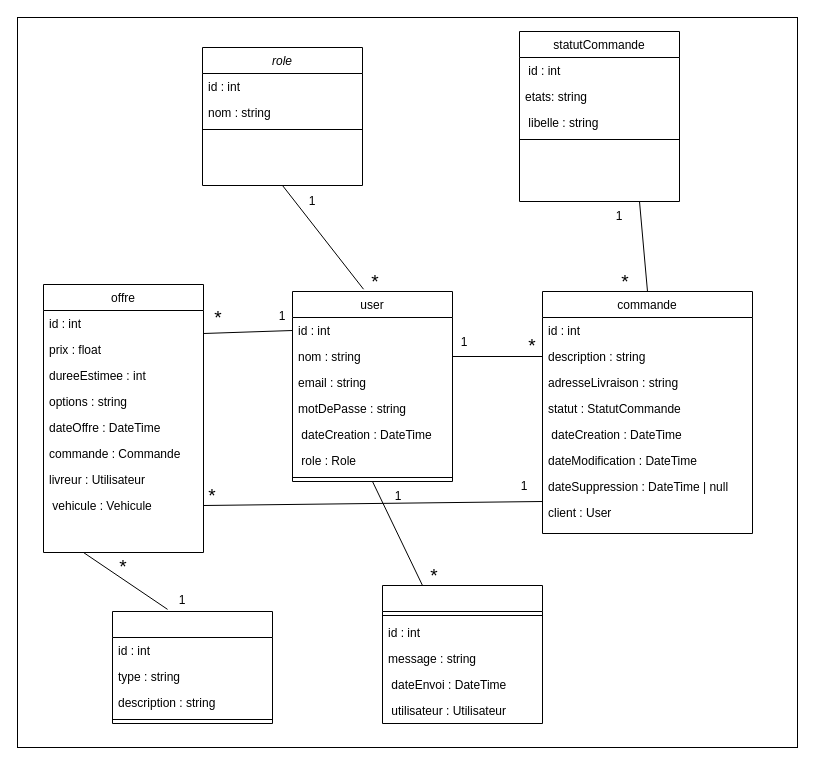
This 815x765 diagram has some shape labels left out. Here are the shapes that lost their labels. From the top down, the box of each, then its label:
(112, 610, 272, 724): vehicule
(382, 584, 542, 724): nothification
